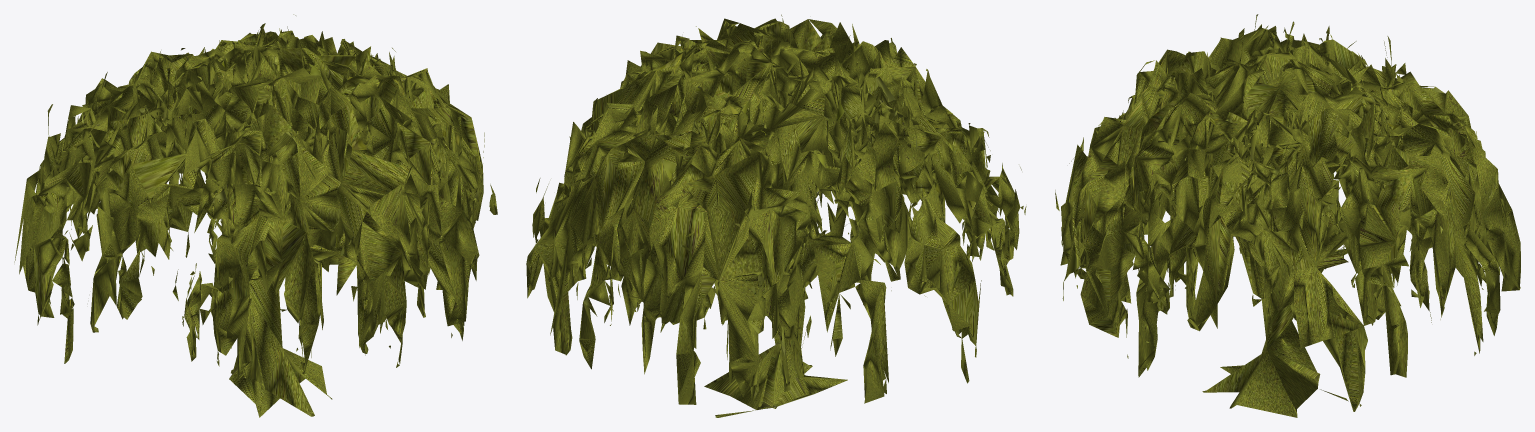
The model's file is lib_willow.far.glb.
3 renders of one model, left to right at view 1: azimuth 30°, elevation 25°; view 2: azimuth 150°, elevation 25°; view 3: azimuth 270°, elevation 25°, orthographic. The views are drawn at different scales.
Parts seen in each view (by area): view 1: output_unwrapped; view 2: output_unwrapped; view 3: output_unwrapped.
Boxes of the visible parts, x1,y1,x2,y2 form: output_unwrapped: [14, 14, 497, 417]; output_unwrapped: [526, 14, 1026, 417]; output_unwrapped: [1055, 14, 1520, 417].
Size of the model in its own units: 1.94 by 1.61 by 1.95.
1 material, 1 textured.
